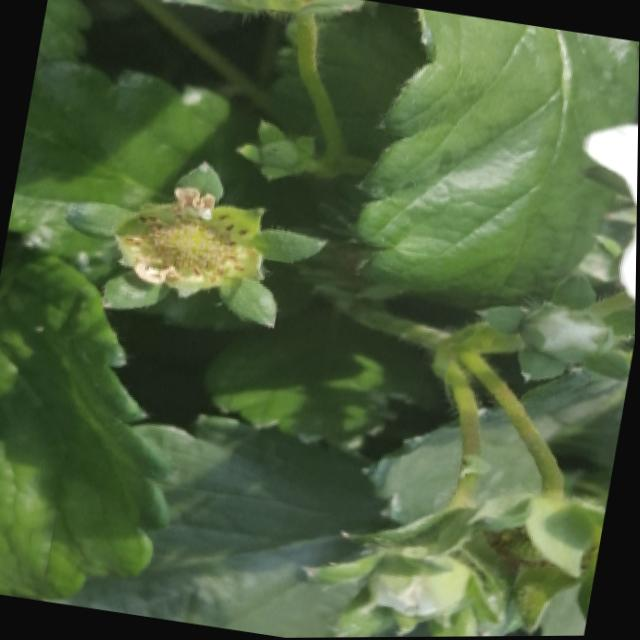Blossom Blight: (125, 206, 251, 289)
